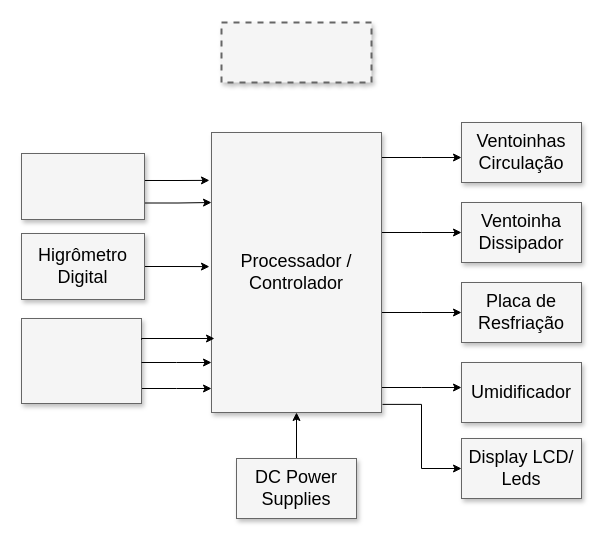
The diagram is 605 pixels wide and 543 high, and some of its shapes have lost their labels. Each missing label, with the centre of its shape:
"Botoeiras/ Switches" belongs at [82,362].
"Software Control" belongs at [297,53].
"Termômetros Digitais" belongs at [83,187].
